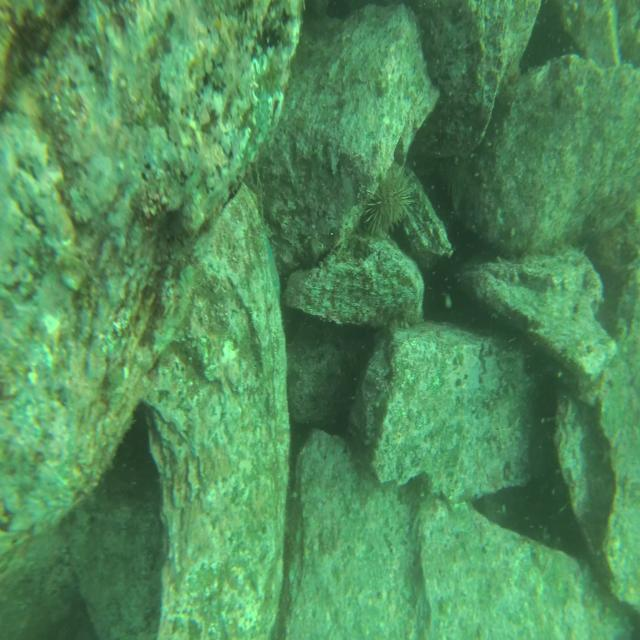echinus: (368, 169, 410, 236)
